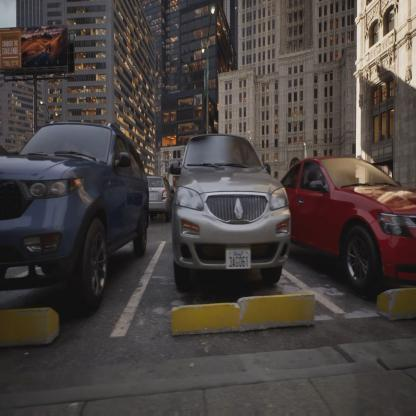License-Plate: (224, 245, 255, 274)
